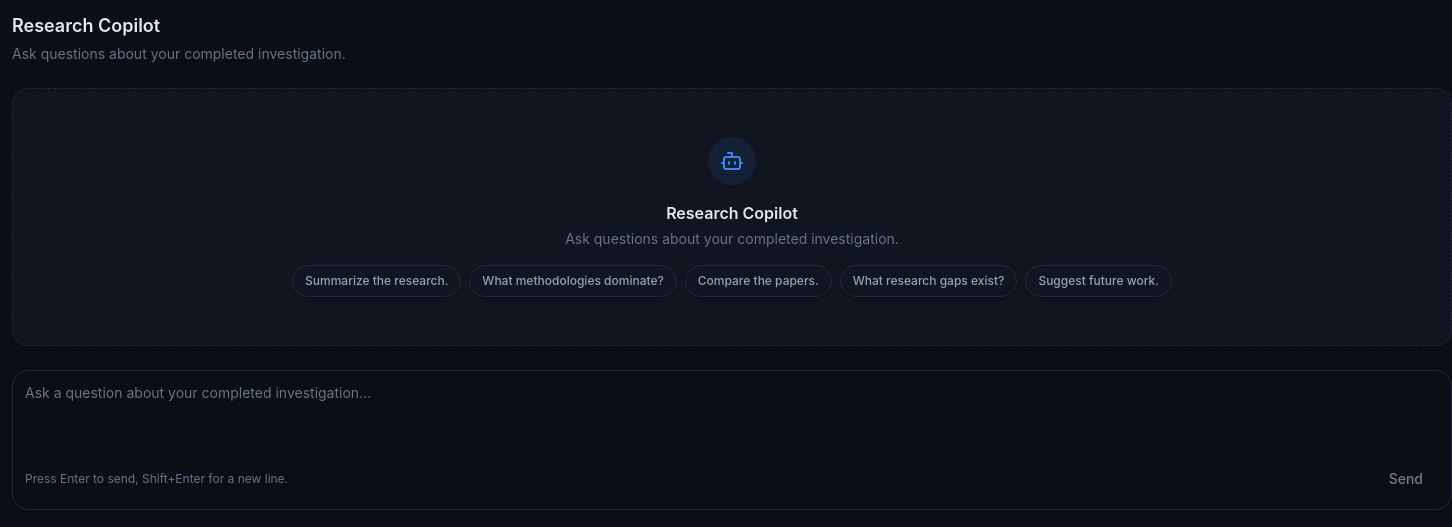
Scenario: CopilotPage › streams tokens into the conversation
Expected: the 1st heading "Research Copilot" is shown, [12, 15, 160, 36]
Type "Summarize the research." into the text box at x=732, y=413, box [25, 383, 1439, 443]
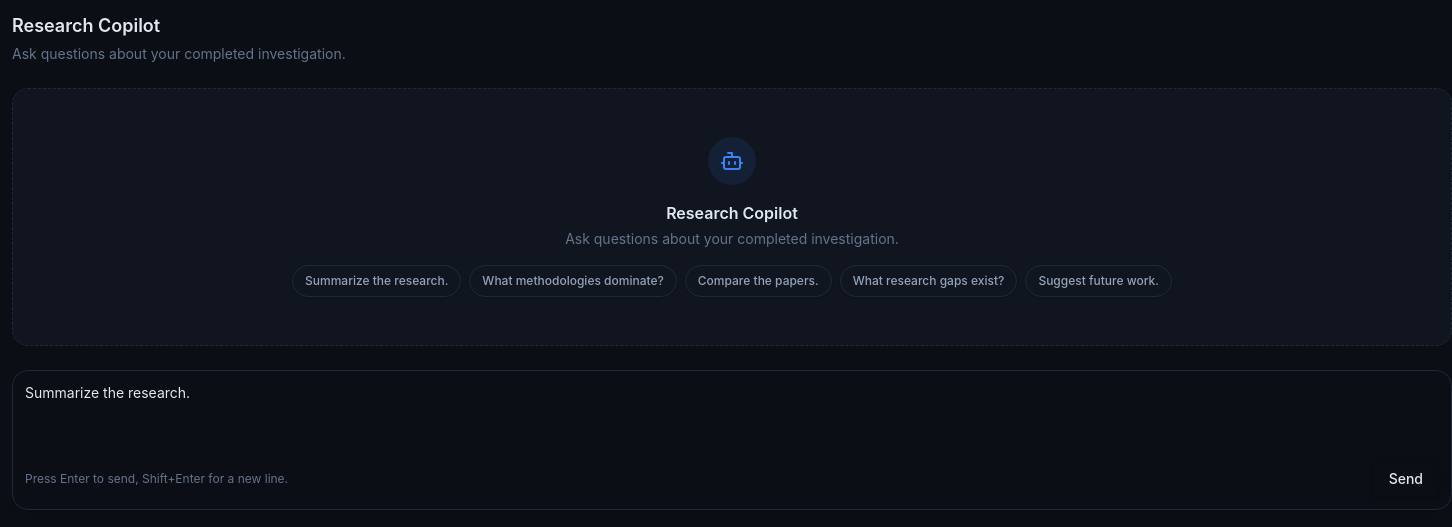
Press Enter
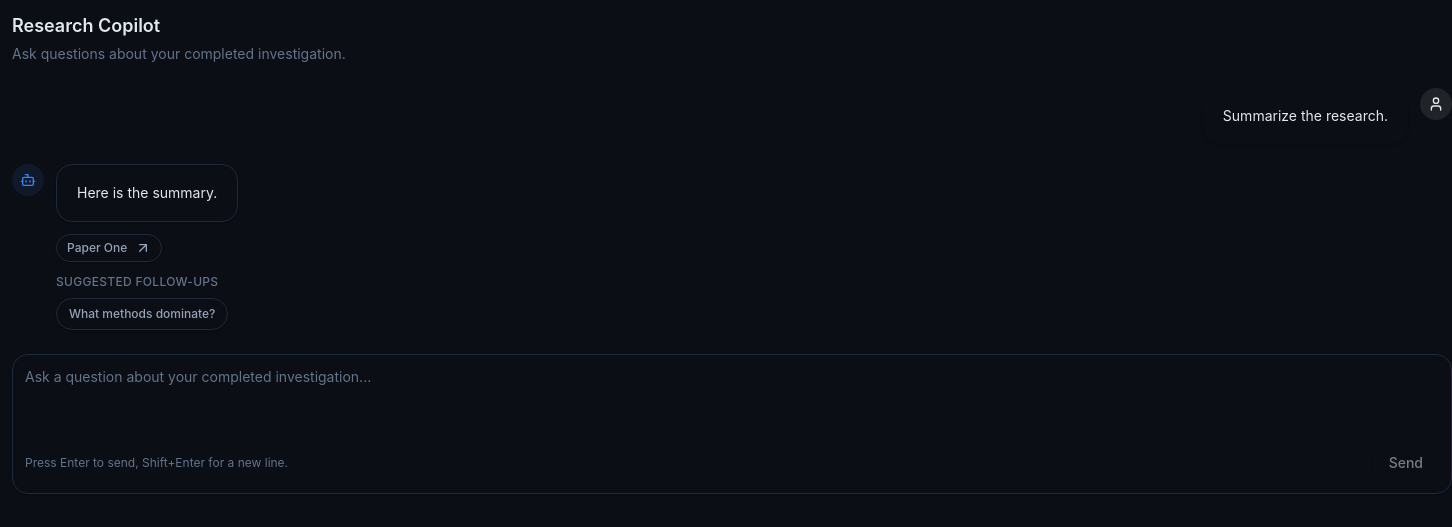
Result: the text "Here is the summary." is shown at [77, 184, 217, 201]
